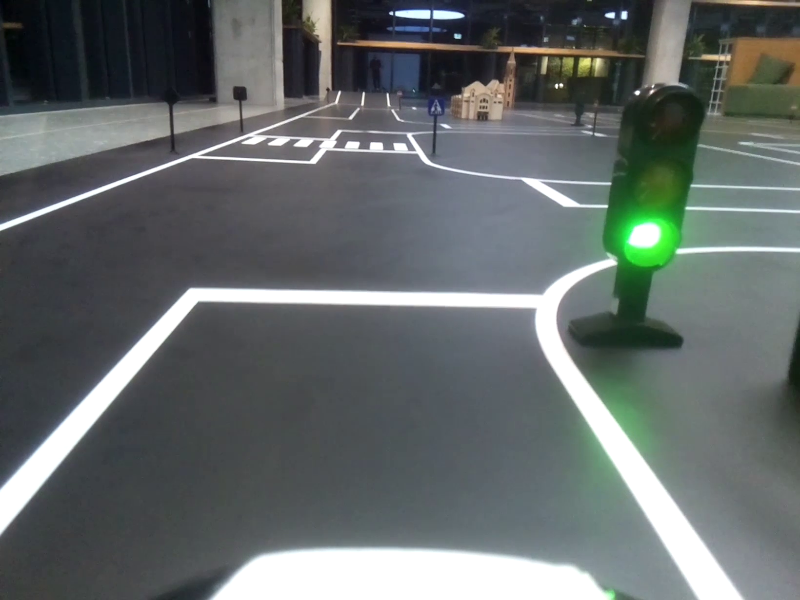traffic_green: (616, 85, 683, 267)
